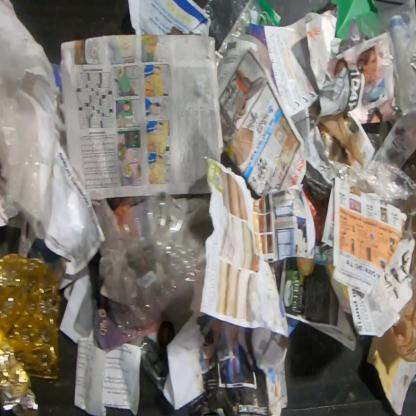rigid_plastic: (96, 191, 206, 354)
soft_plastic: (0, 0, 59, 242), (0, 252, 62, 415), (324, 134, 415, 202), (201, 0, 280, 50), (318, 112, 366, 166), (385, 287, 415, 364)
